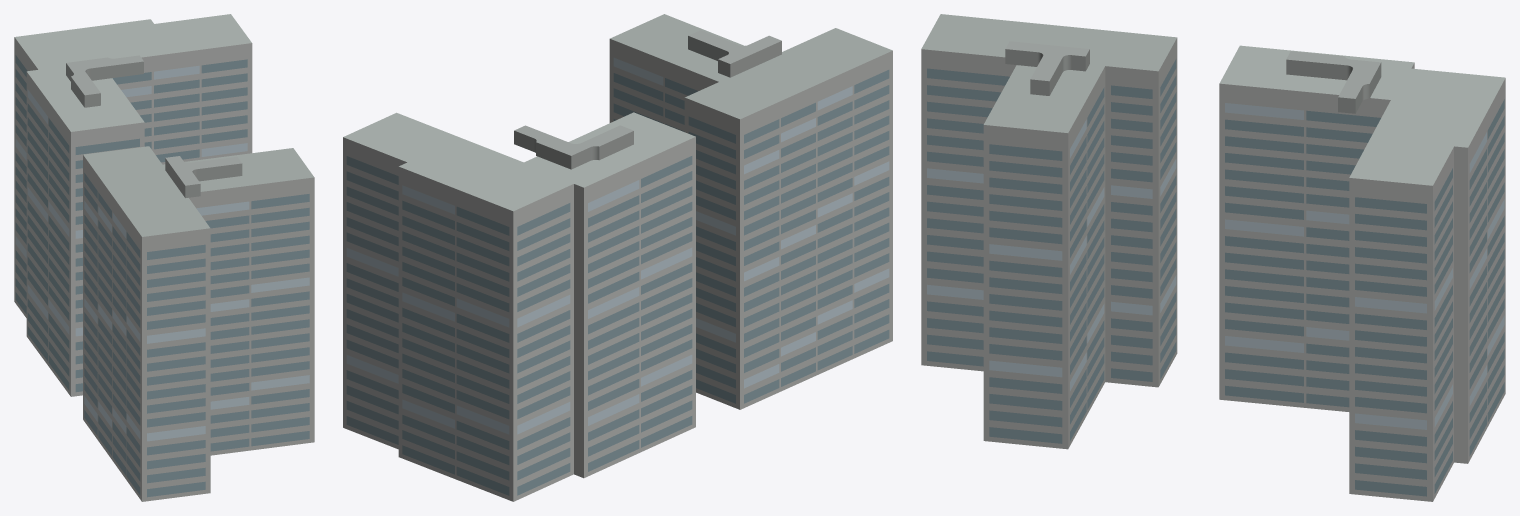
The model's file is apt-a13185402.glb.
3 views of the same model, side by side, from view 1: azimuth 30°, elevation 25°; view 2: azimuth 150°, elevation 25°; view 3: azimuth 270°, elevation 25° (orthographic). The views are drawn at different scales.
Visible parts, largest first — view 1: apt-a13185402; view 2: apt-a13185402; view 3: apt-a13185402.
Boxes of the visible parts, bbox=[...] form: apt-a13185402: bbox=[14, 14, 314, 501]; apt-a13185402: bbox=[343, 14, 892, 501]; apt-a13185402: bbox=[921, 14, 1505, 501].
Size of the model in its own units: 56.78 by 51 by 81.61.
